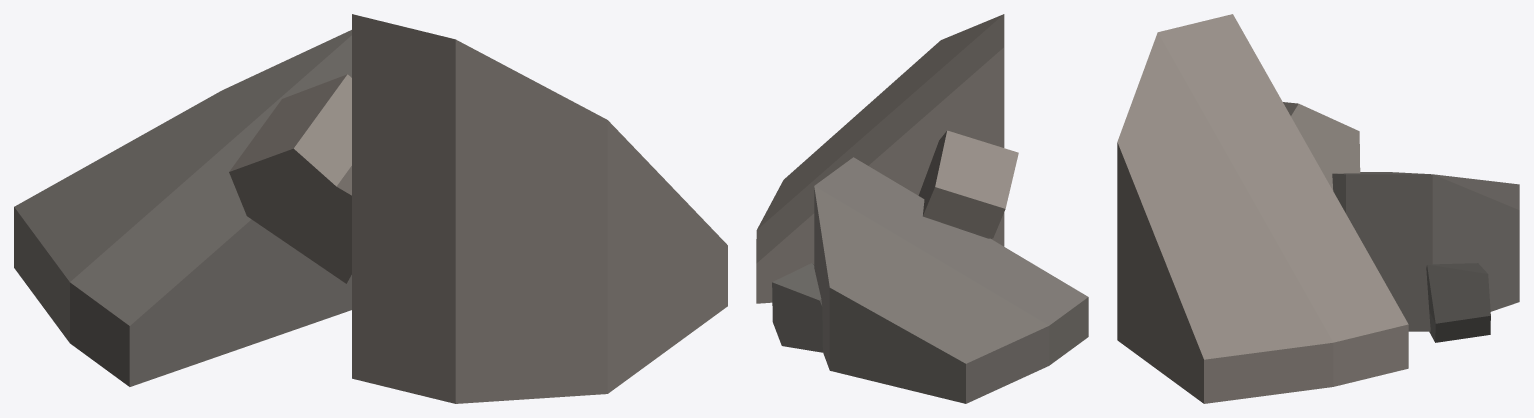
The model's file is shatteredrock3.fbx.
3 views of the same model, side by side, from view 1: azimuth 30°, elevation 25°; view 2: azimuth 150°, elevation 25°; view 3: azimuth 270°, elevation 25° (orthographic). The views are drawn at different scales.
Parts seen in each view (by area): view 1: ShatteredRock3; view 2: ShatteredRock3; view 3: ShatteredRock3.
Boxes of the visible parts, x1,y1,x2,y2 form: ShatteredRock3: (14, 14, 727, 403); ShatteredRock3: (756, 14, 1088, 403); ShatteredRock3: (1117, 14, 1519, 403).
Bounding box in the file's own units: 2.17 × 1.44 × 1.96.
